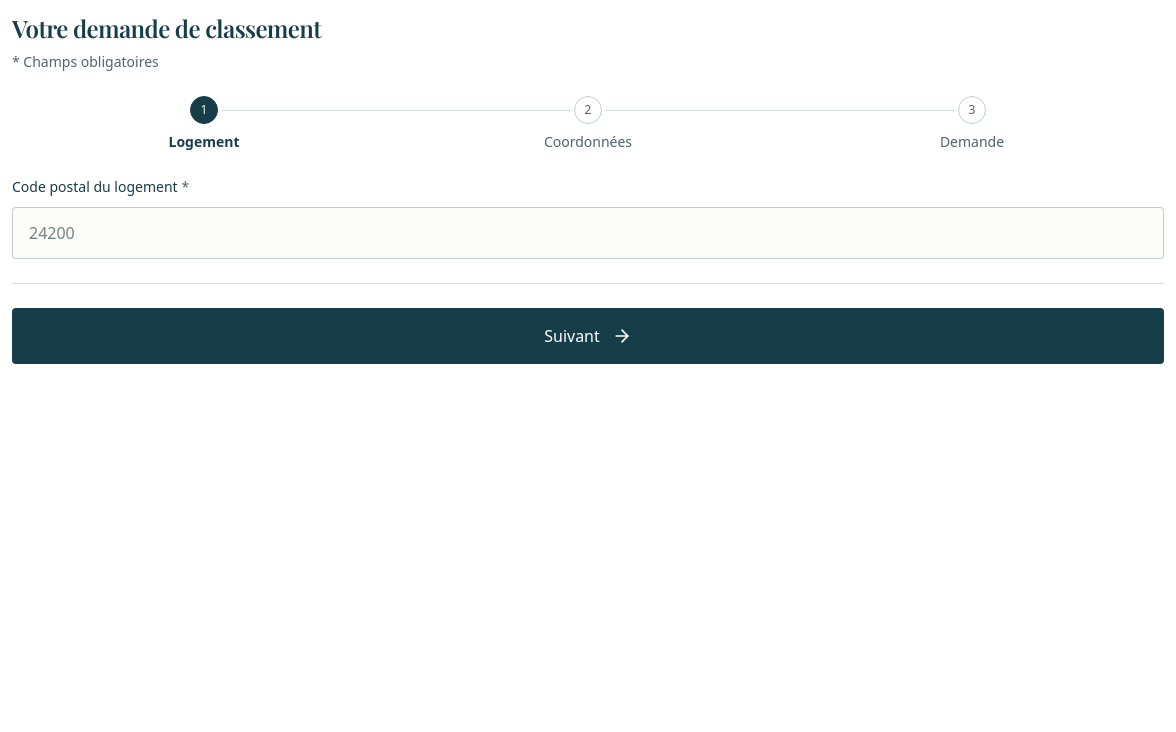
étape Logement › invalidates the selection when the postal code changes and keeps the address
The image size is (1176, 732).
Later steps or results of the test are not shown.
Type "24150" into the field labelled "Code postal du logement*".
click(588, 233); type("24150")  # box x1=12 y1=207 x2=1164 y2=259
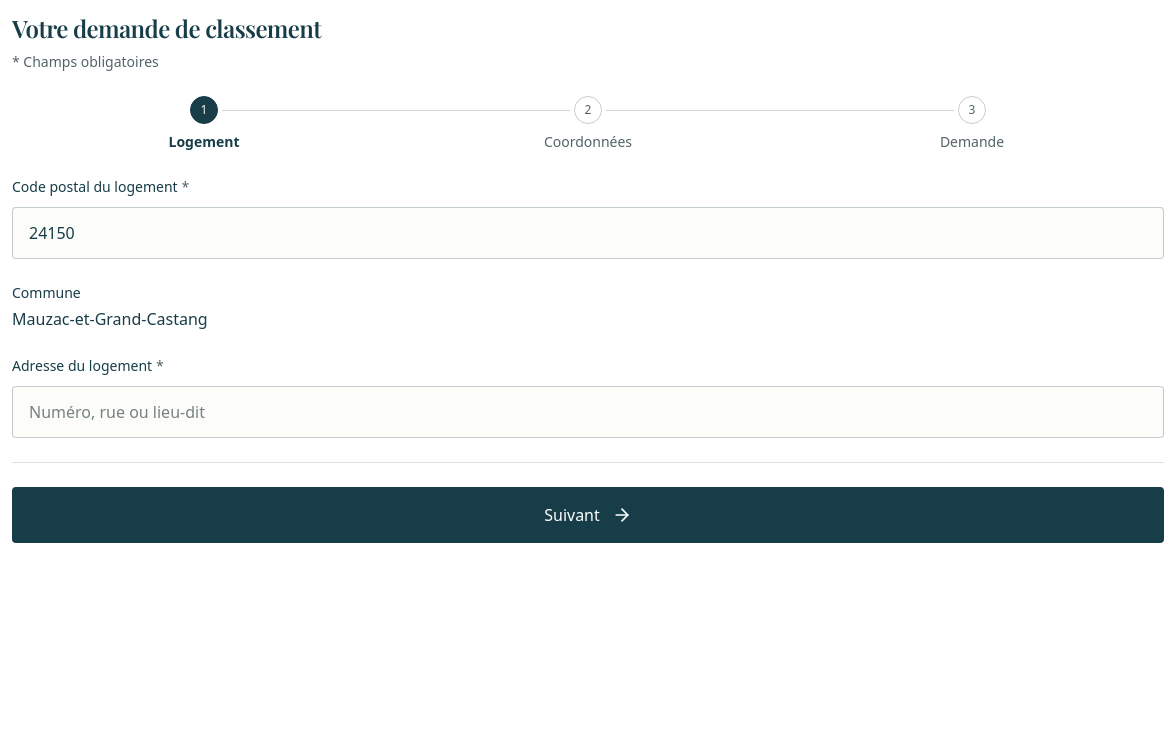
Type "1 rue du Test" into the field labelled "Adresse du logement*".
click(588, 412); type("1 rue du Test")  # box x1=12 y1=386 x2=1164 y2=438
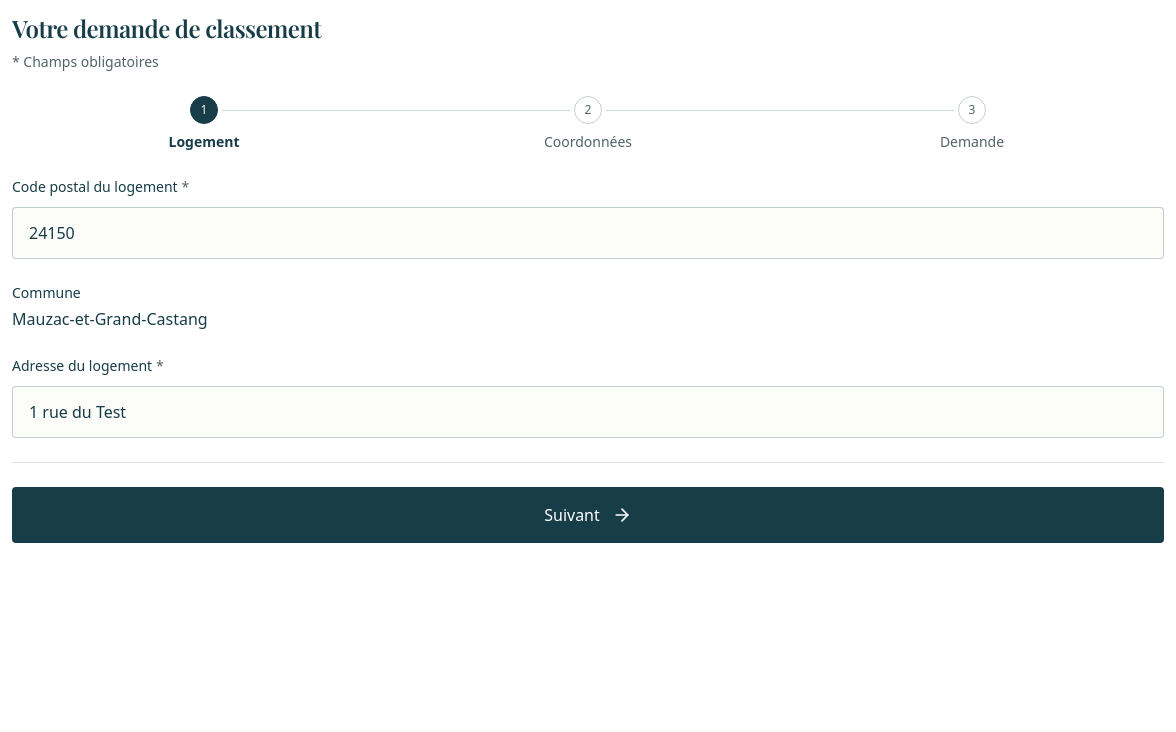
Replace the text in the field labelled "Code postal du logement*" with "2415" at {"x": 588, "y": 233}, box x1=12 y1=207 x2=1164 y2=259
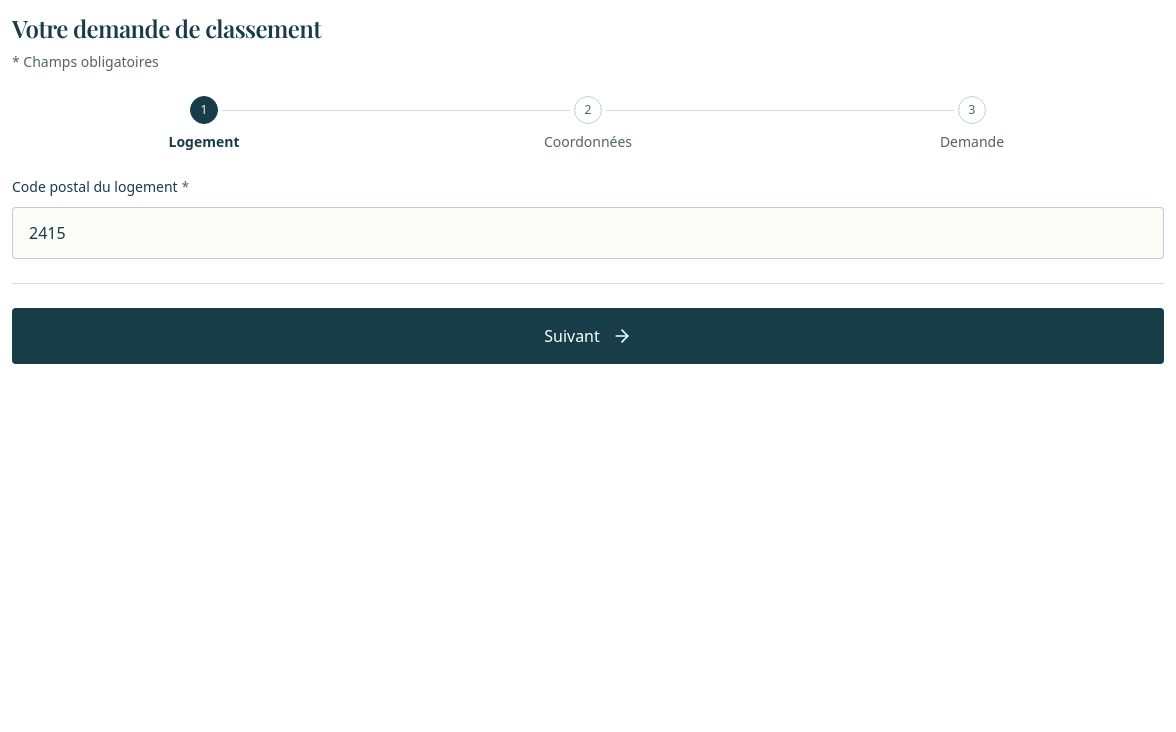
Now the text "Mauzac-et-Grand-Castang" is gone
